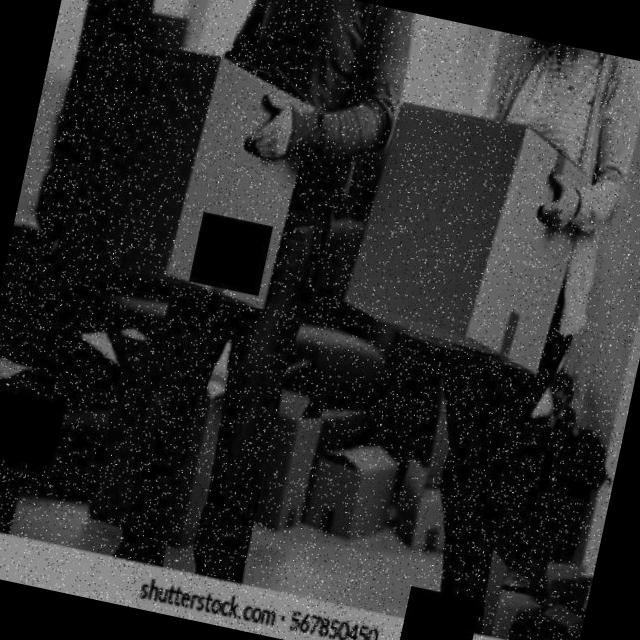box: (312, 61, 626, 436), (27, 10, 345, 353)
